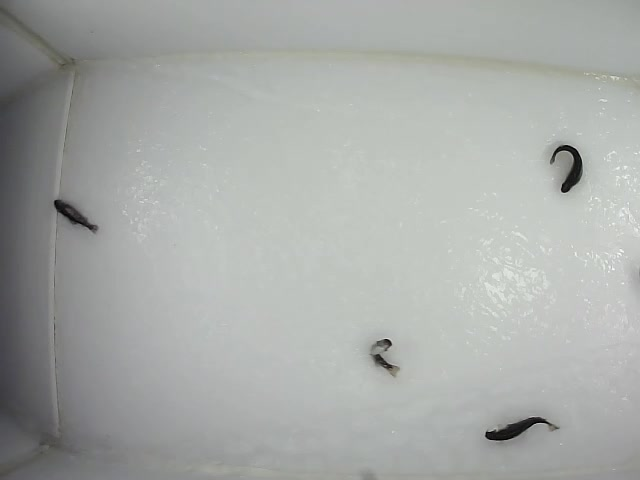fish: (482, 415, 559, 444), (547, 143, 586, 194), (53, 196, 101, 235), (368, 335, 402, 377)
